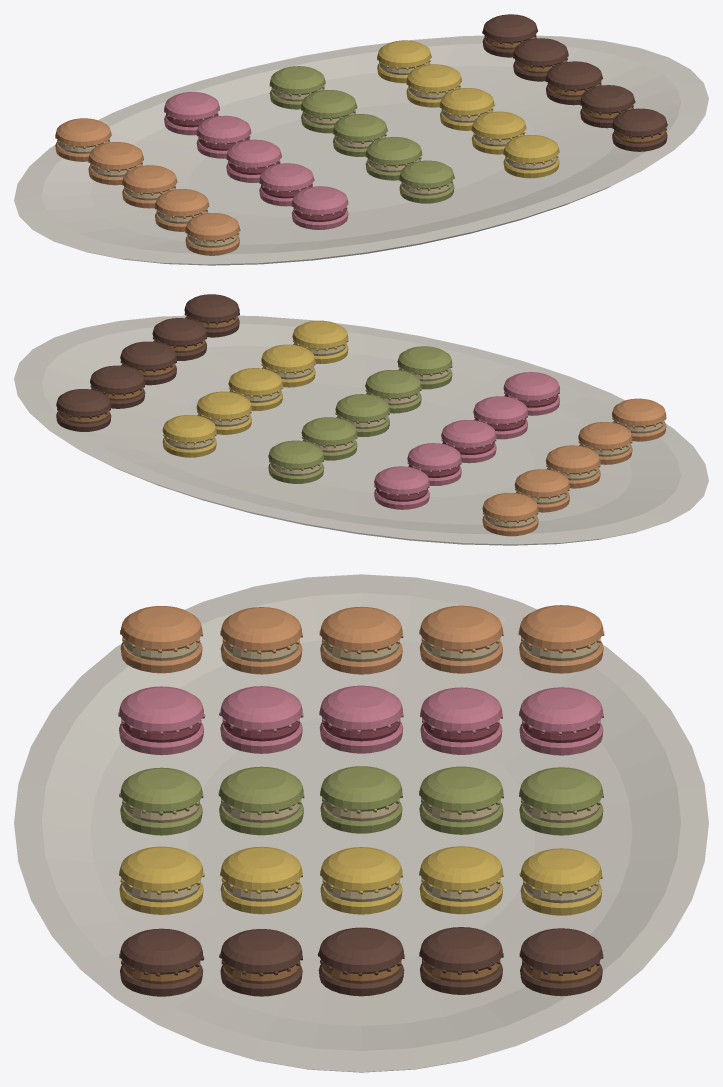
The model's file is macarons.glb.
The picture shows the model from 3 angles, top to bottom: view 1: azimuth 30°, elevation 25°; view 2: azimuth 150°, elevation 25°; view 3: azimuth 270°, elevation 25°; orthographic projection. The views are drawn at different scales.
Visible parts, largest first — view 1: 실내 조명 베이크용 macarons; view 2: 실내 조명 베이크용 macarons; view 3: 실내 조명 베이크용 macarons.
Part boxes in pixels (x1,y1,x2,y2): 실내 조명 베이크용 macarons: [14, 14, 708, 265]; 실내 조명 베이크용 macarons: [14, 294, 708, 545]; 실내 조명 베이크용 macarons: [14, 574, 708, 1072].
Size of the model in its own units: 0.978 by 0.063 by 0.5771.
